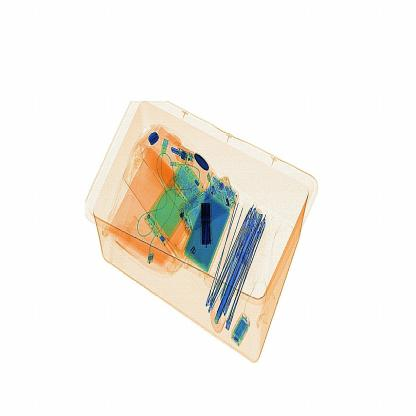scissors: (194, 186, 219, 252)
